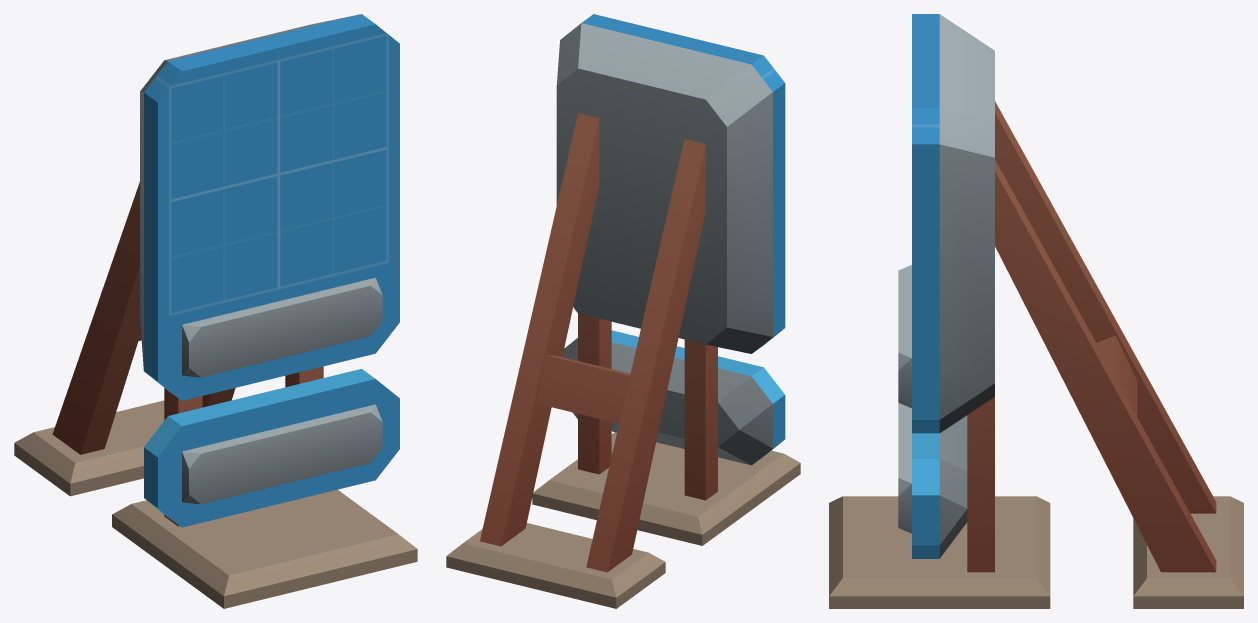
Rendered from kaykit-proto-target_stand_A.glb.
3 renders of one model, left to right at view 1: azimuth 30°, elevation 25°; view 2: azimuth 150°, elevation 25°; view 3: azimuth 270°, elevation 25°, orthographic. The views are drawn at different scales.
Visible parts, largest first — view 1: target_stand_A; view 2: target_stand_A; view 3: target_stand_A.
Boxes of the visible parts, <box> form: target_stand_A: <box>14,14,417,608</box>; target_stand_A: <box>446,14,800,608</box>; target_stand_A: <box>829,14,1243,608</box>.
Bounding box in the file's own units: 1 × 2 × 1.5.
1 material, 1 textured.
